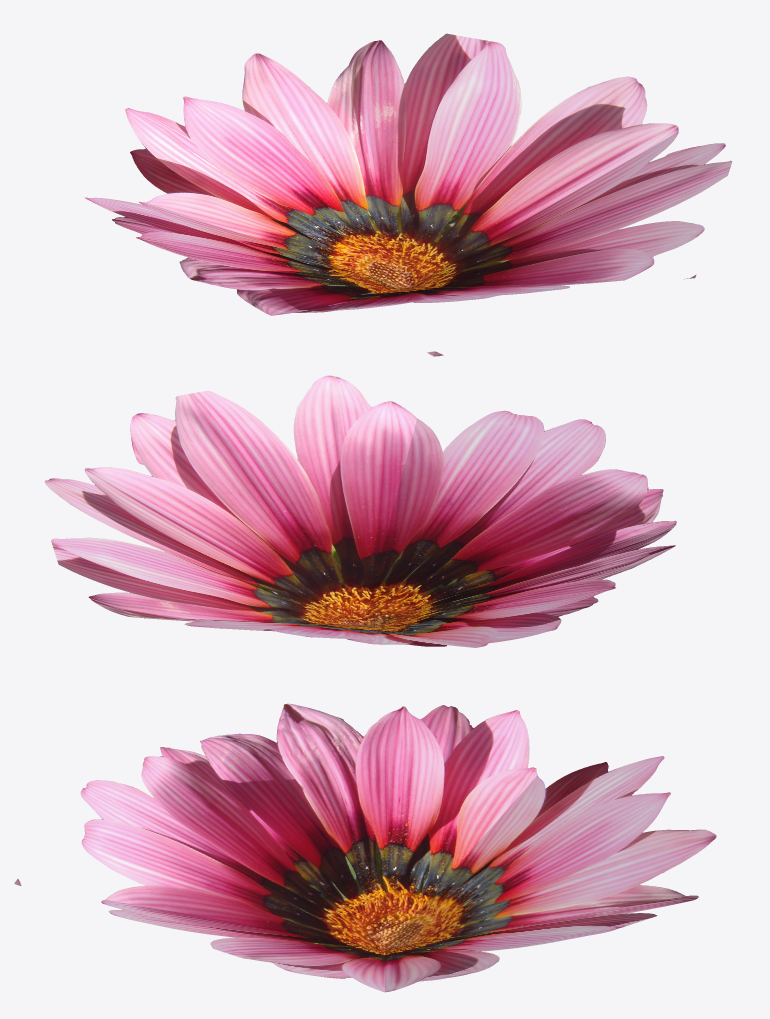
Rendered from FlowerCactus.fbx.
The picture shows the model from 3 angles, top to bottom: view 1: azimuth 30°, elevation 25°; view 2: azimuth 150°, elevation 25°; view 3: azimuth 270°, elevation 25°; orthographic projection. The views are drawn at different scales.
Parts seen in each view (by area): view 1: Икосфера.001; view 2: Икосфера.001; view 3: Икосфера.001.
Part boxes in pixels (left/top/right/bottom): Икосфера.001: left=84, top=33, right=732, bottom=315; Икосфера.001: left=44, top=351, right=676, bottom=647; Икосфера.001: left=14, top=703, right=716, bottom=992.
Bounding box in the file's own units: 0.2276 × 0.0398 × 0.2254.
Materials: 1 (1 with a texture image).
